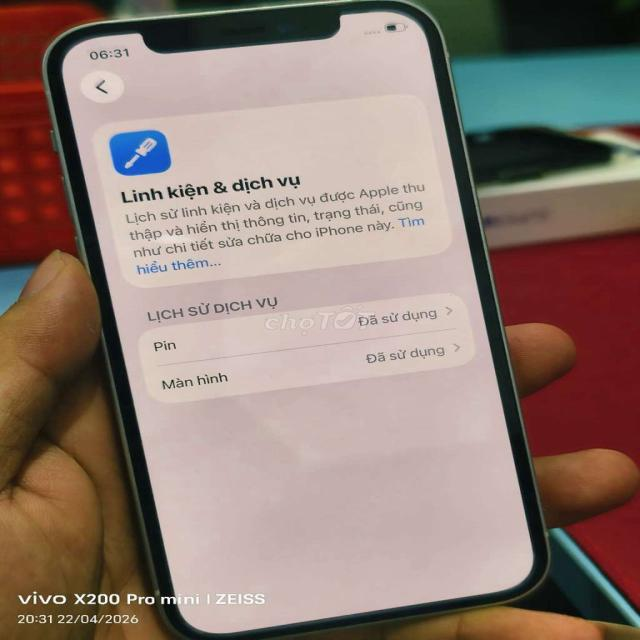gen_12_13: (39, 2, 565, 634)
